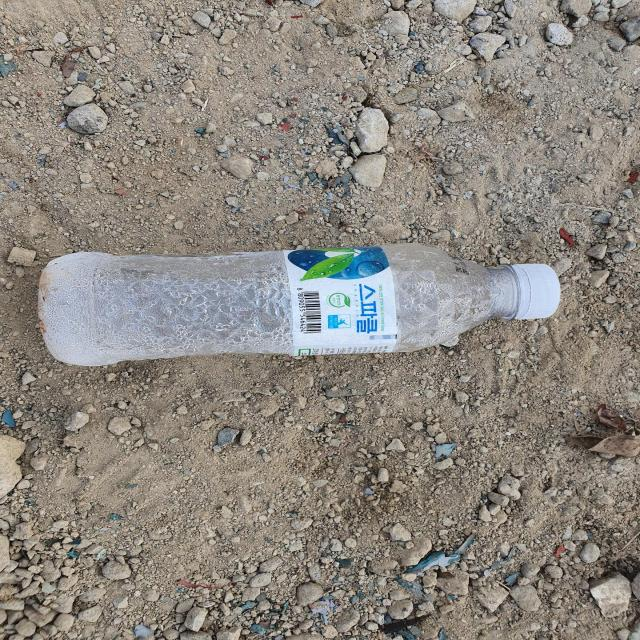plastic: (38, 244, 561, 366)
